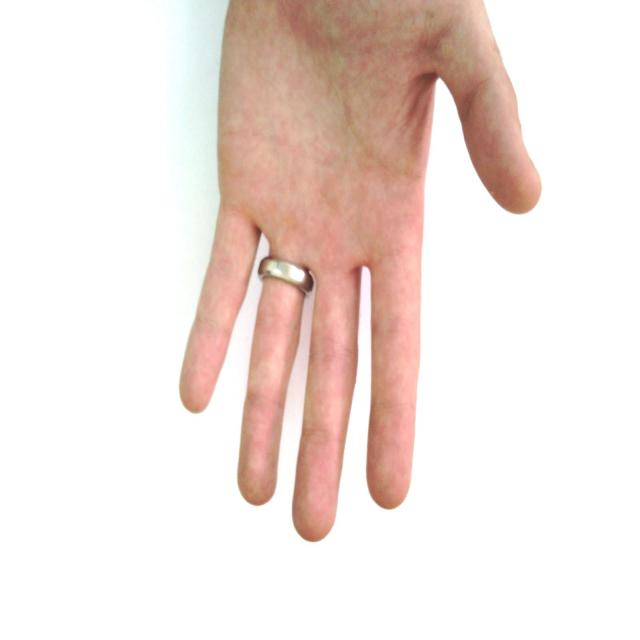others: (162, 0, 544, 551)
